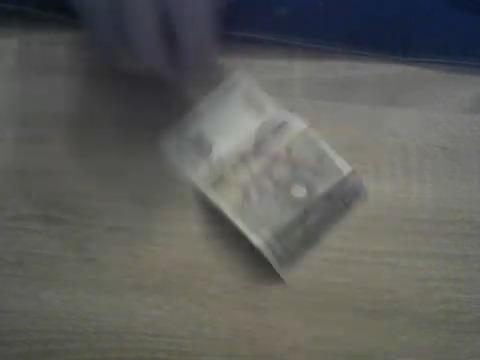10leva: (158, 70, 366, 285)
